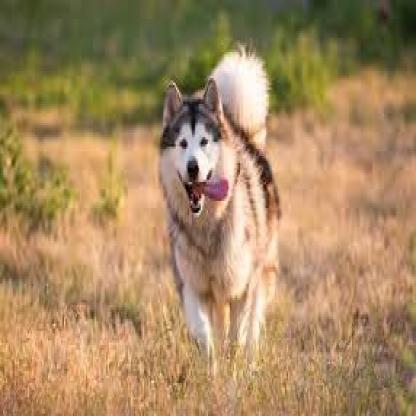dog: (149, 48, 309, 379)
